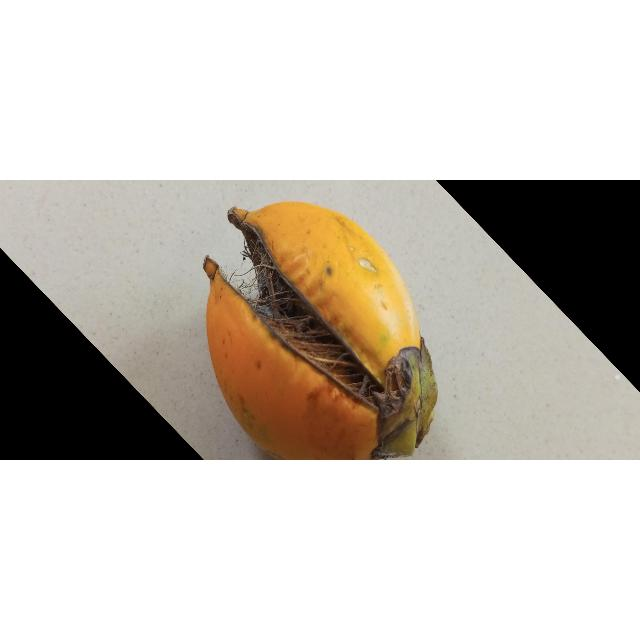damaged: (203, 202, 437, 461)
